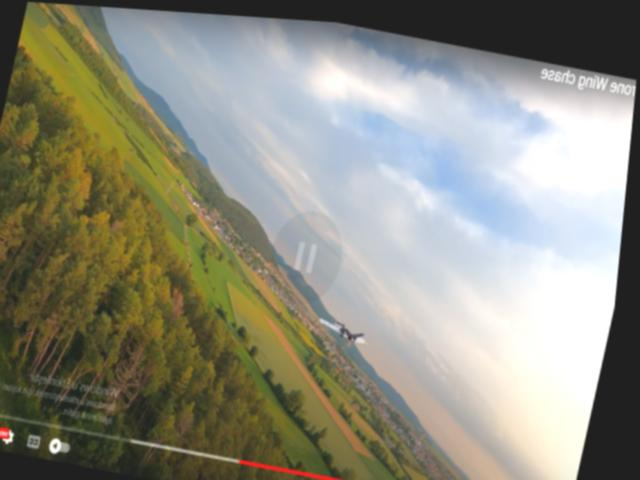plane: (327, 317, 375, 342)
